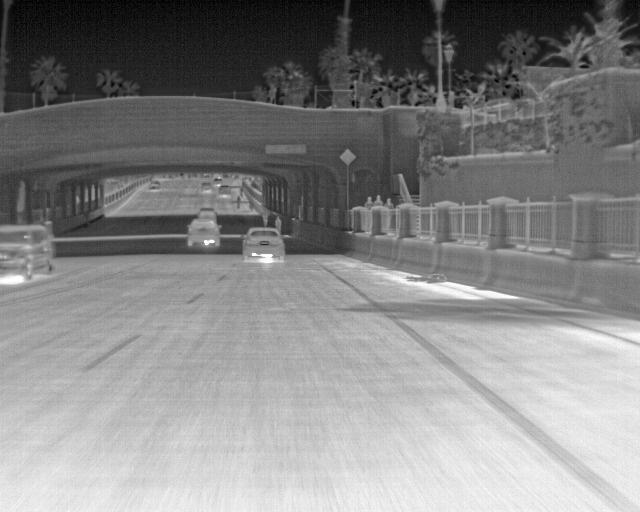bicycle: (0, 220, 58, 282), (240, 224, 288, 262), (186, 218, 222, 249), (193, 210, 216, 224), (216, 184, 233, 201), (145, 176, 162, 192), (200, 181, 216, 195)
empty: (372, 193, 385, 210), (364, 194, 377, 210), (382, 197, 394, 211)
